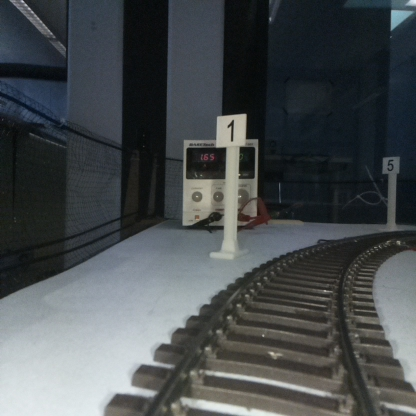white-info-1: (217, 114, 245, 259)
white-info-5: (383, 156, 399, 228)
